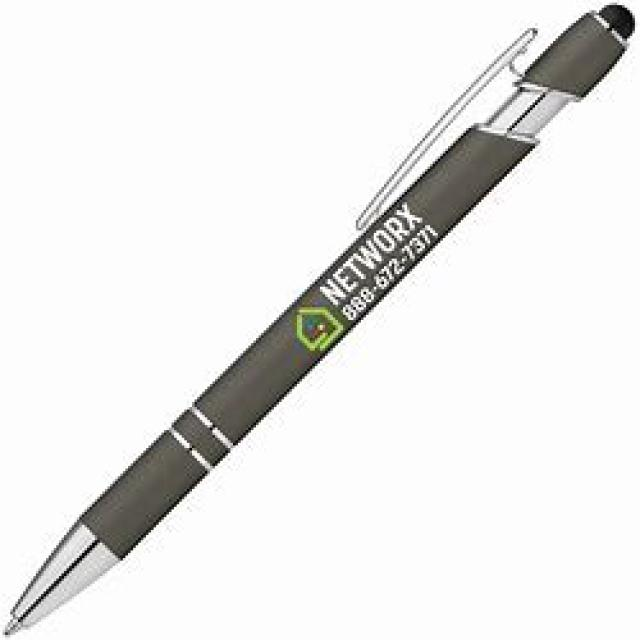pen: (0, 2, 635, 632)
